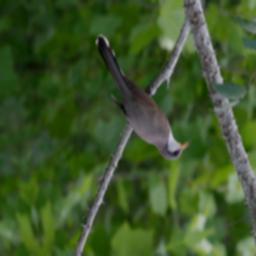Cuckoo: (92, 10, 194, 181)
